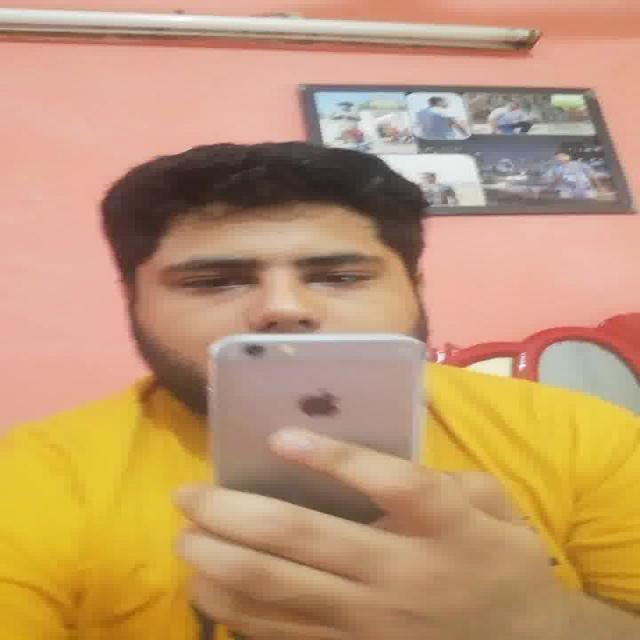Phone: (205, 330, 428, 498)
